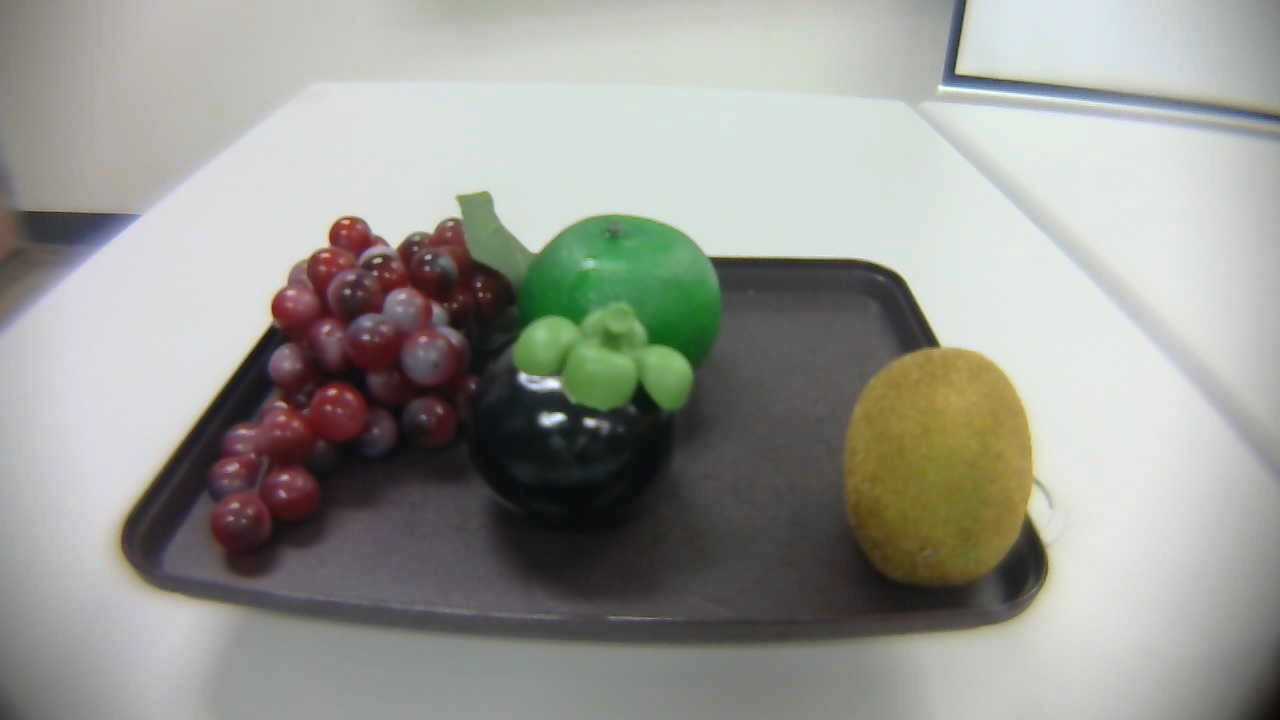grape: (203, 191, 537, 569)
green orange: (508, 208, 730, 399)
kiwi fruit: (833, 346, 1037, 596)
mangosteen: (468, 299, 692, 535)
